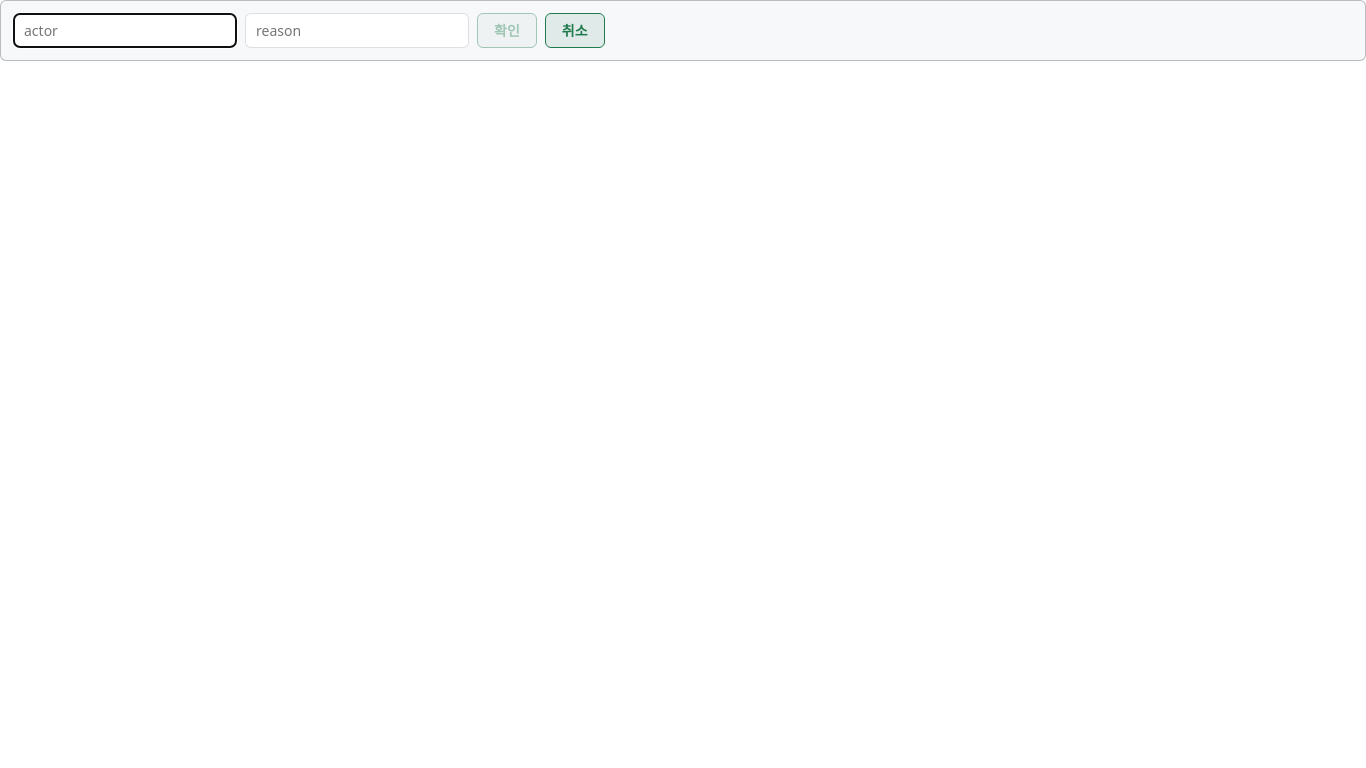
ConfirmDialog actor 게이팅·취소·접근성 › actor 가 비면 확인 버튼이 disabled, 입력하면 활성
Check: the button "확인" is disabled, box [477,13,537,48]
In the field with placeholder "actor": (125, 30) [13,13,237,48], type "alice"
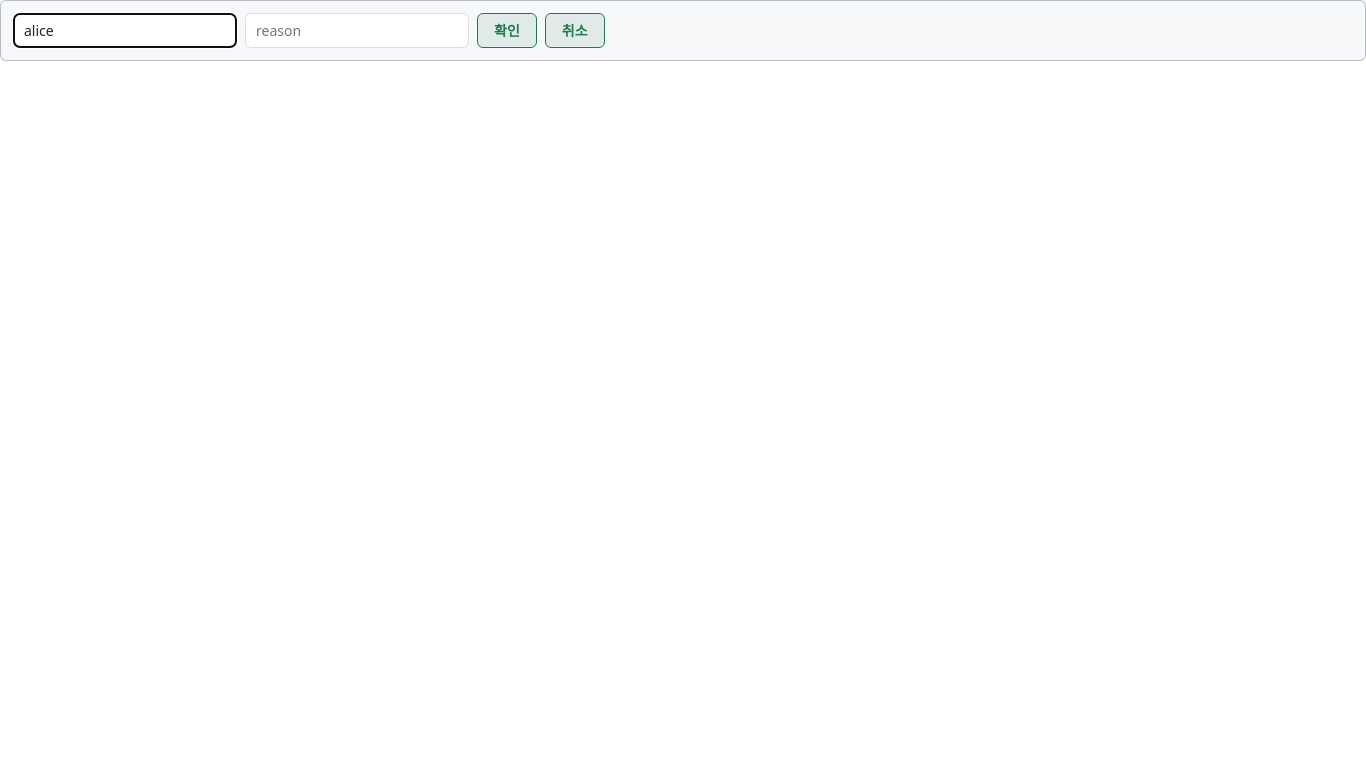
Check: the button "확인" is enabled, box [477,13,537,48]
